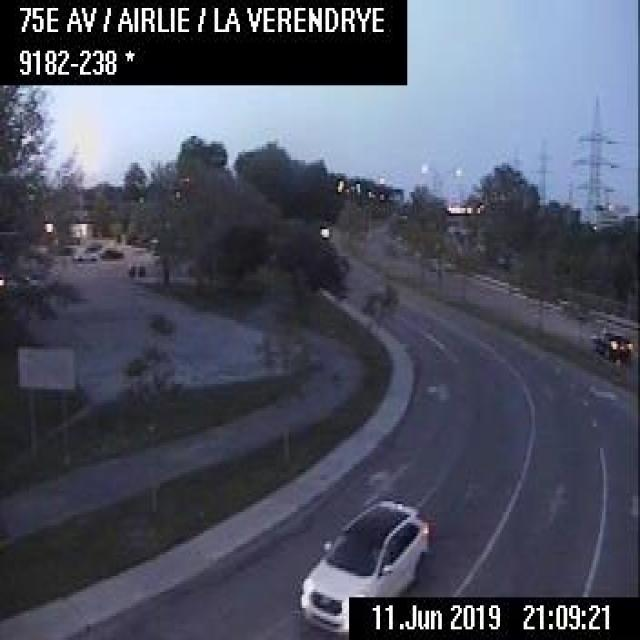vehicle: (293, 491, 432, 637), (591, 328, 631, 363), (70, 244, 96, 262), (98, 243, 123, 260)
